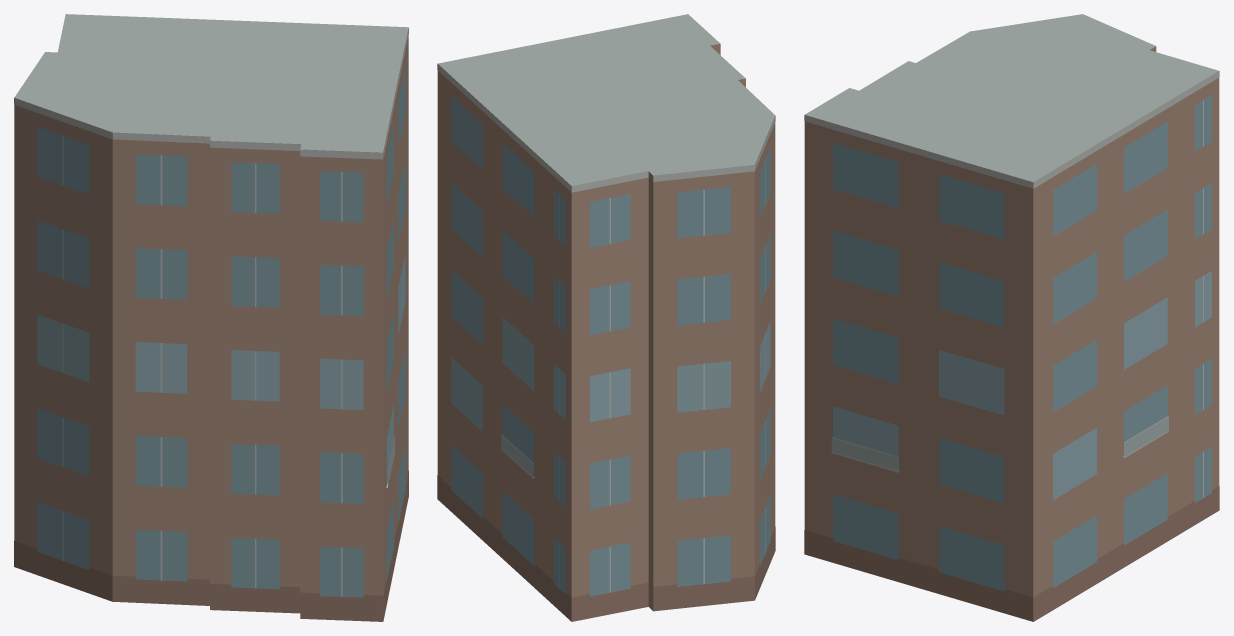
The model's file is survey-upis-32978929.glb.
3 views of the same model, side by side, from view 1: azimuth 30°, elevation 25°; view 2: azimuth 150°, elevation 25°; view 3: azimuth 270°, elevation 25° (orthographic). The views are drawn at different scales.
Parts seen in each view (by area): view 1: survey-upis-32978929.tmp; view 2: survey-upis-32978929.tmp; view 3: survey-upis-32978929.tmp.
Part boxes in pixels (left/top/right/bottom): survey-upis-32978929.tmp: left=14, top=14, right=408, bottom=621; survey-upis-32978929.tmp: left=437, top=14, right=775, bottom=621; survey-upis-32978929.tmp: left=804, top=14, right=1219, bottom=621.
Bounding box in the file's own units: 13.56 × 16.5 × 14.12.
